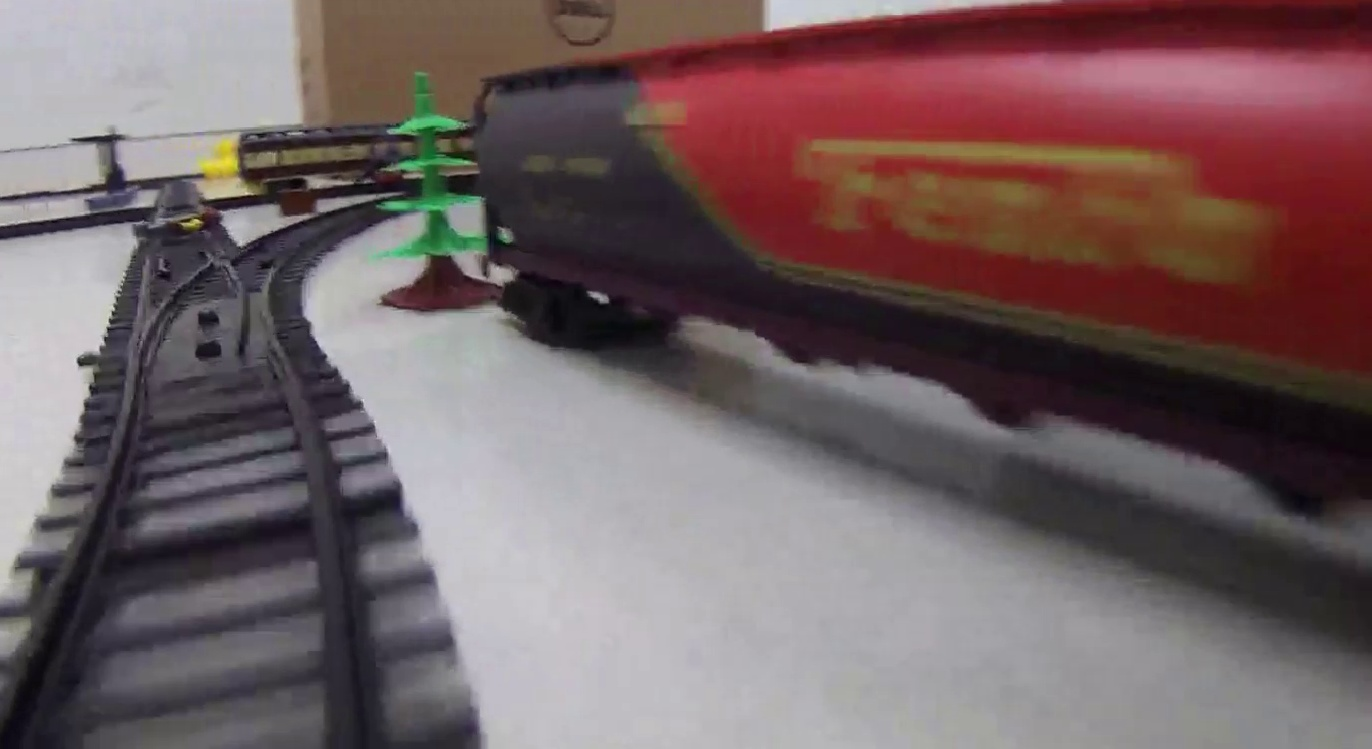tree: (372, 72, 480, 312)
